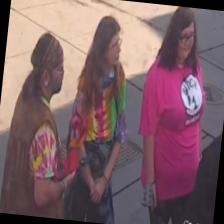person: (127, 4, 215, 224), (58, 12, 137, 224), (0, 29, 81, 219)
